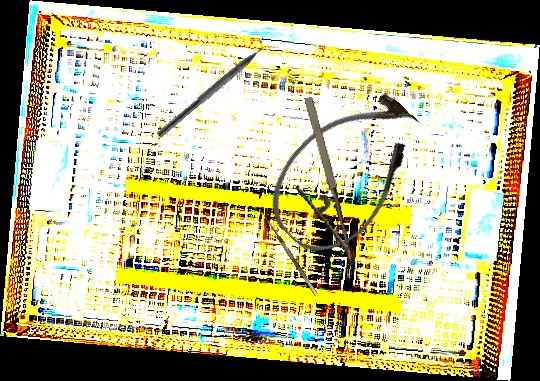Cannula: (250, 73, 444, 271)
Chopper: (155, 34, 282, 147)
Hook Surgical: (255, 208, 318, 299)
Needle Holder: (277, 95, 356, 274)
